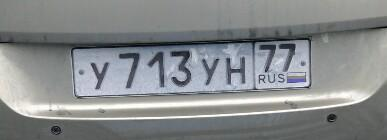license-plateSW: (70, 39, 308, 99)
